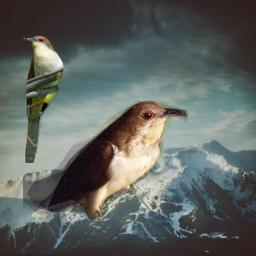Cuckoo: (23, 100, 188, 220), (22, 35, 65, 163)
